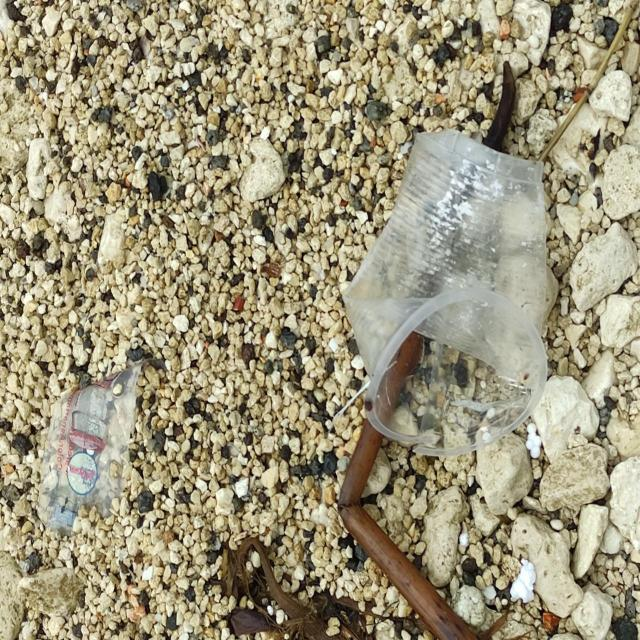plastic_waste: (341, 127, 551, 460), (36, 357, 146, 539)
